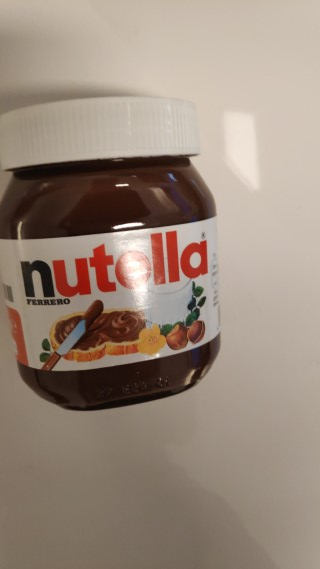nutella: (1, 93, 224, 412)
